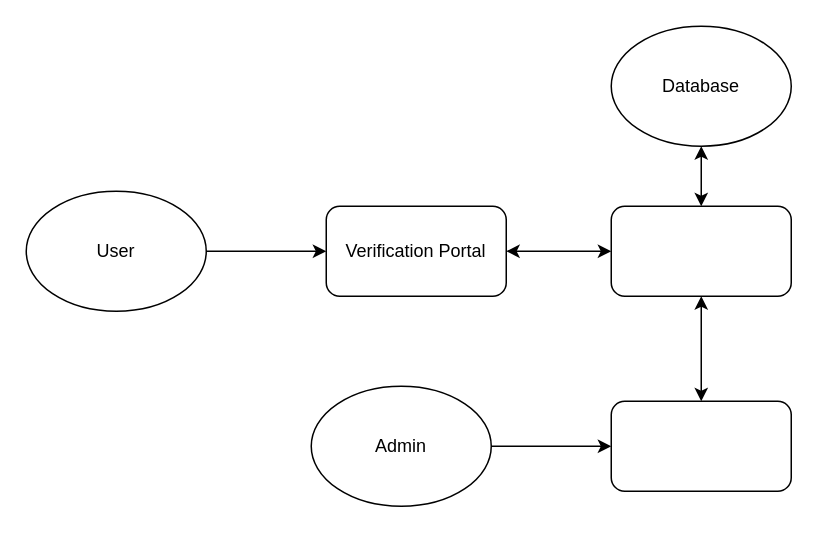
Some shapes in this 818 by 533 pixel diagram are drawn without their labels. The centre of each missing label's shape, as x and y in pixels:
Admin Panel: the point at 700,445
Backend: the point at 700,250
